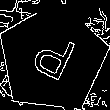P_SW: (26, 28, 80, 89)
